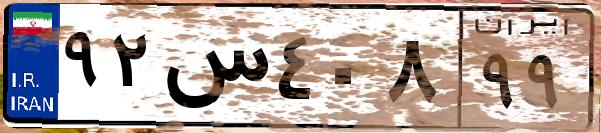0: (330, 28, 385, 110)
2: (110, 28, 158, 98)
4: (270, 28, 330, 110)
8: (385, 28, 445, 110)
9: (57, 26, 110, 100), (475, 38, 525, 113), (525, 38, 570, 115)
س: (158, 20, 270, 120)
